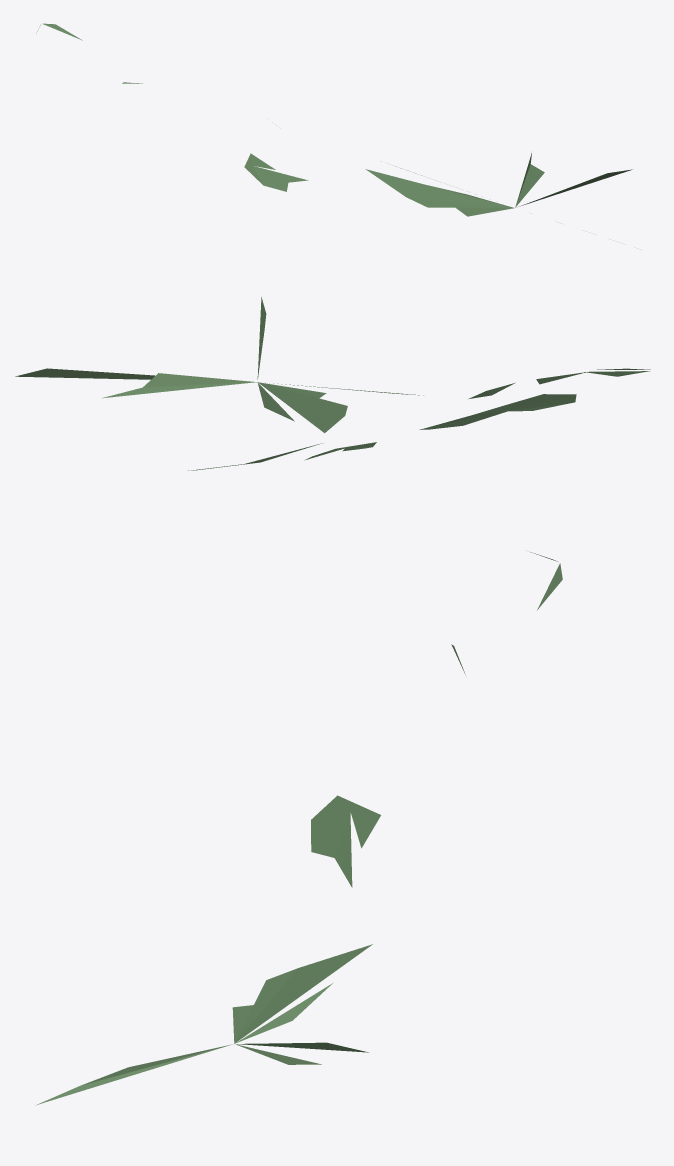
The model's file is c_1667_17815_forest.glb.
3 views of the same model, one above another, from view 1: azimuth 30°, elevation 25°; view 2: azimuth 150°, elevation 25°; view 3: azimuth 270°, elevation 25° (orthographic). The views are drawn at different scales.
Visible parts, largest first — view 1: geometry_0; view 2: geometry_0; view 3: geometry_0.
Part boxes in pixels (x1,y1,x2,y2): geometry_0: (36,23,632,216); geometry_0: (15,297,650,470); geometry_0: (35,552,562,1105).
Size of the model in its own units: 336 by 121 by 261.
